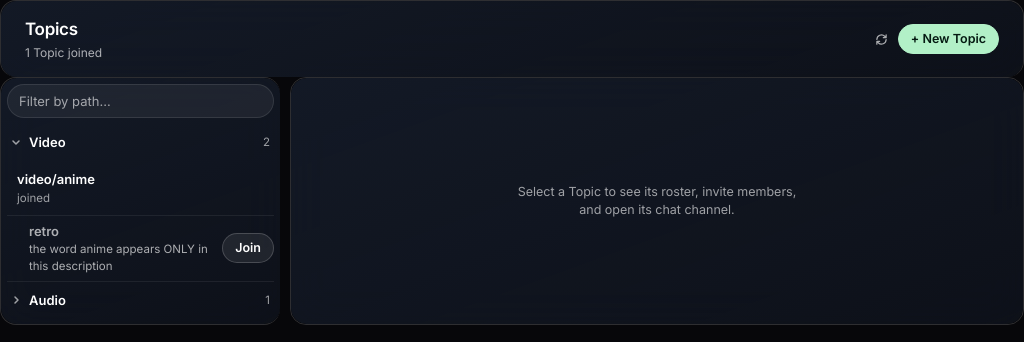
Test: QURATOR-144 W2 — path-only filter, force-open › matches PATHS ONLY — never descriptions — and force-opens the matching group
Expected: the text "video/anime" is shown, [17, 171, 95, 187]
Type "anime" into the search field with placeholder "Filter by path…" at (140,101), box [7, 84, 274, 118]
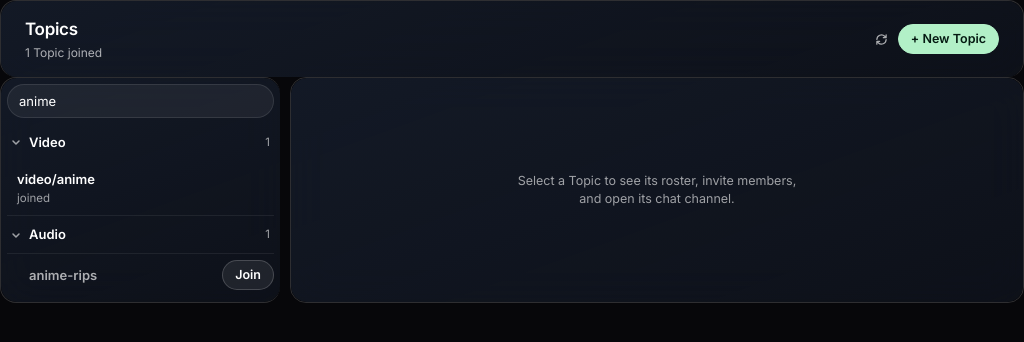
Expected: the text "anime-rips" is shown, [29, 267, 97, 283]
Expected: the text "the word anime appears" is gone
Expected: the text "retro" is gone
